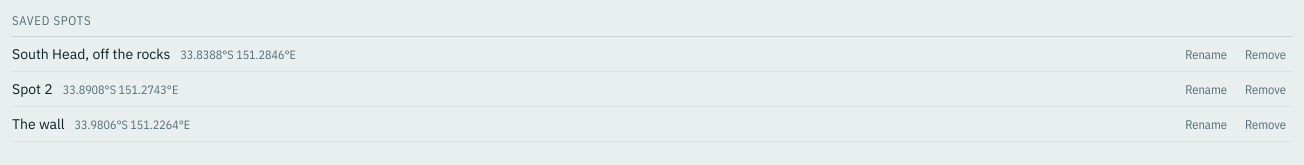
Test: SavedSpots › renaming › opens with the existing name, so it can be edited not retyped
Click the 3rd button "Rename" at (1206, 124), box [1179, 112, 1233, 136]
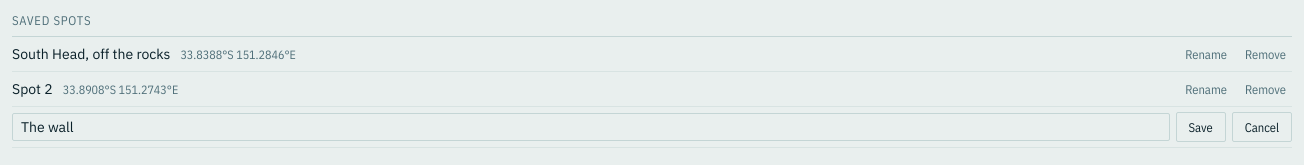
Result: the field named "Rename The wall" holds "The wall" at [12, 113, 1170, 141]
